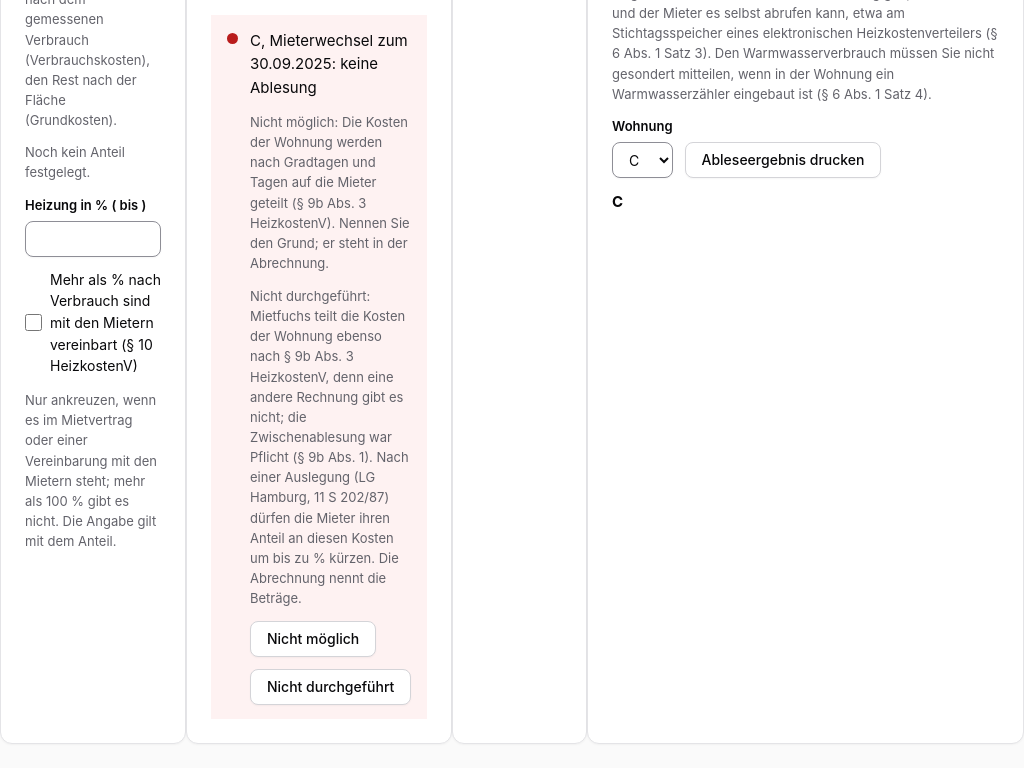
Test case: K5: Nicht möglich ohne Eingabe ist kein offenes Formular; Abbrechen schließt; ein Fehler steht einmal
(page scrolled)
Click the button "Nicht möglich" at (313, 639), box [250,621,376,657]
(page scrolled)
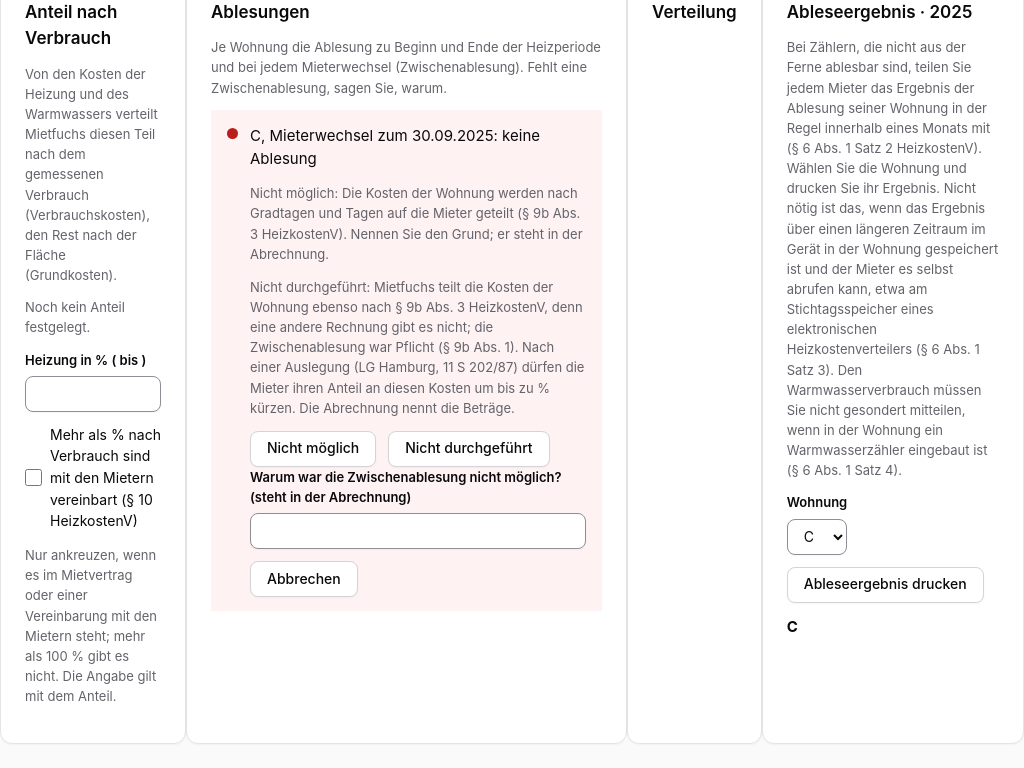
Click the button "Abbrechen" at (304, 579), box [250,561,358,597]
(page scrolled)
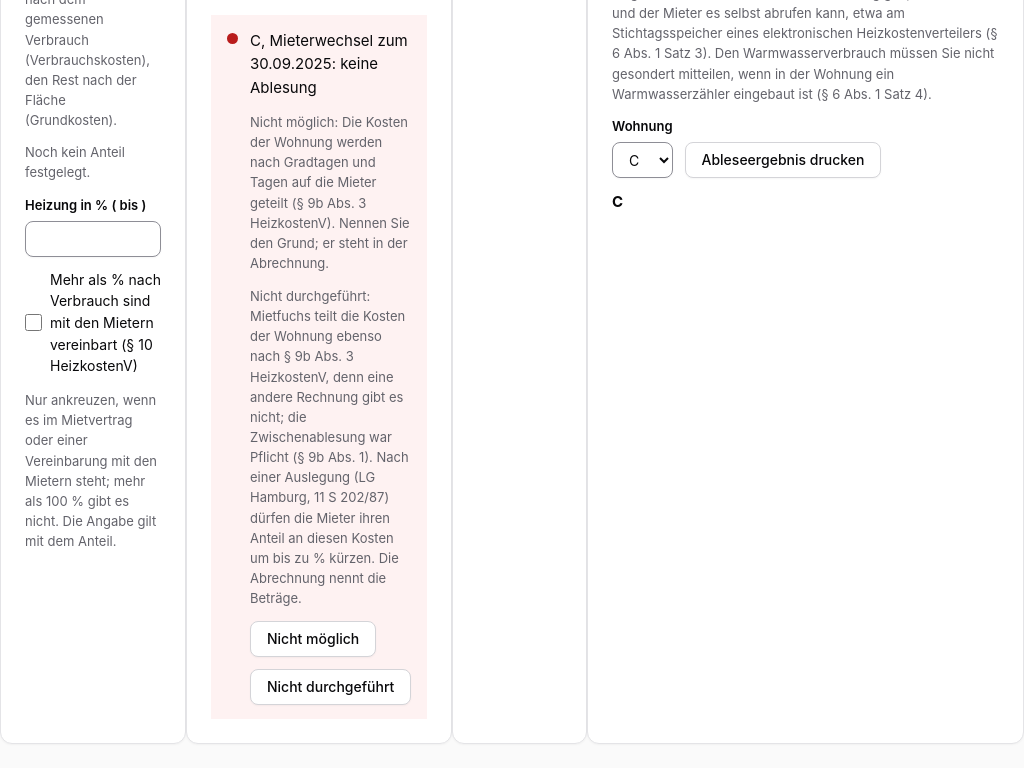
expect the label labelled "Warum war die Zwischenablesung nicht möglich" is gone: met
Click the button "Nicht möglich" at (313, 639), box [250,621,376,657]
(page scrolled)
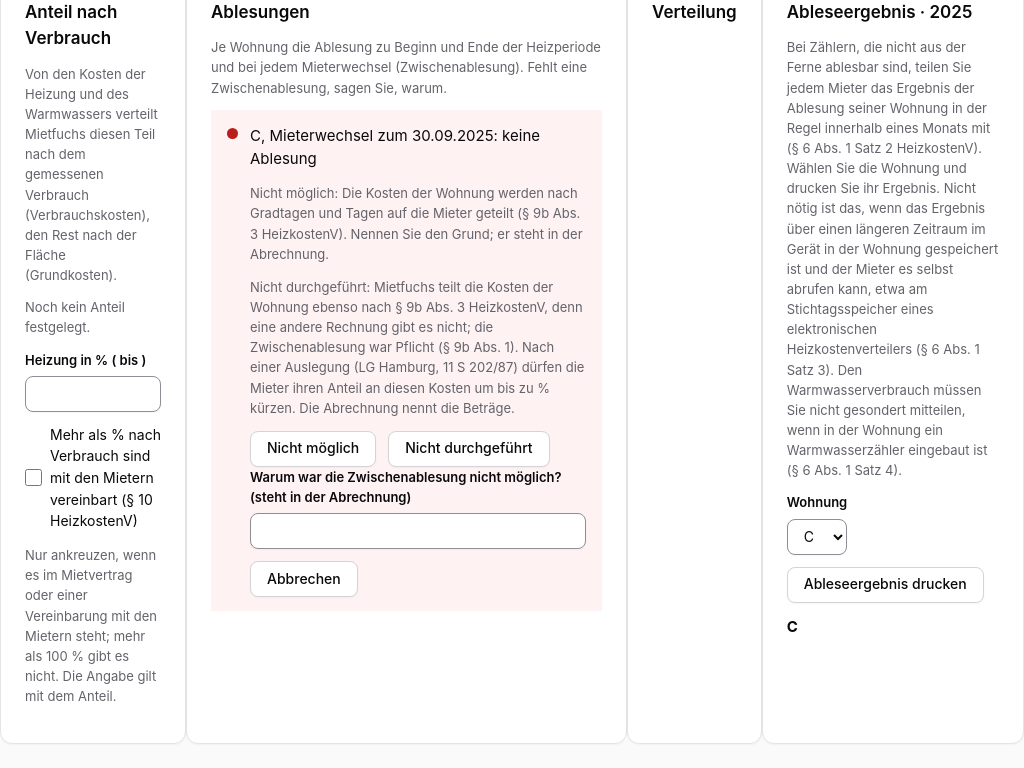
Type "x" into the field labelled "Warum war die Zwischenablesung nicht möglich" at (418, 531), box [250,513,586,549]
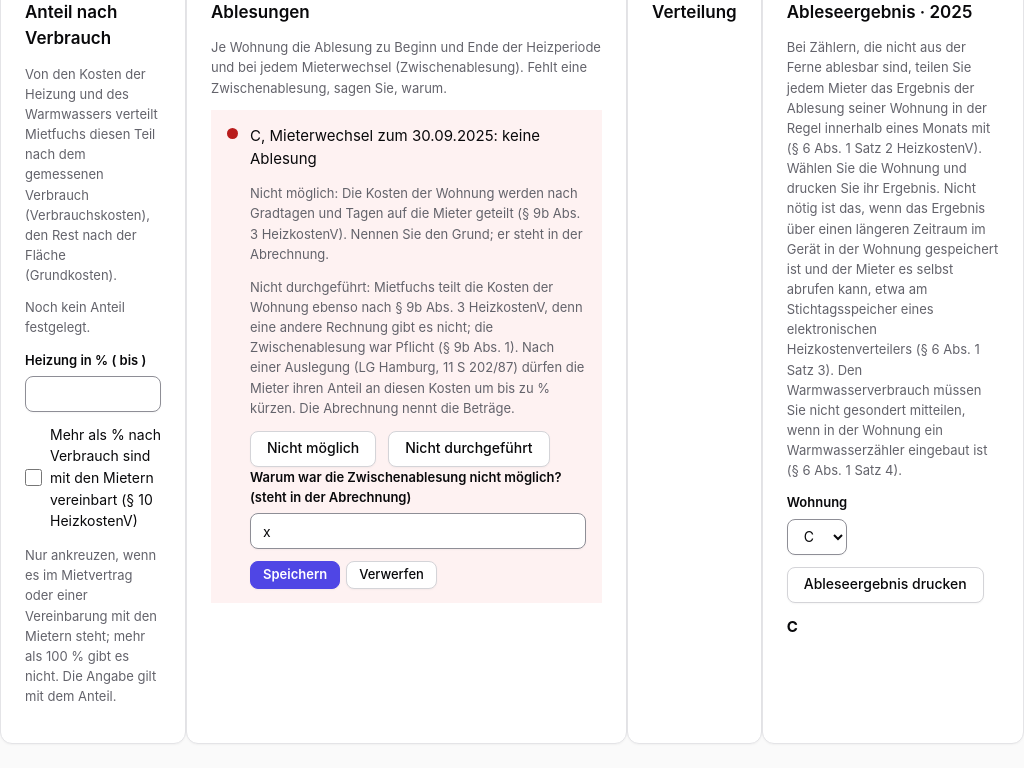
Click the button named "Speichern (Grund)" at (295, 575), box [250,561,340,589]
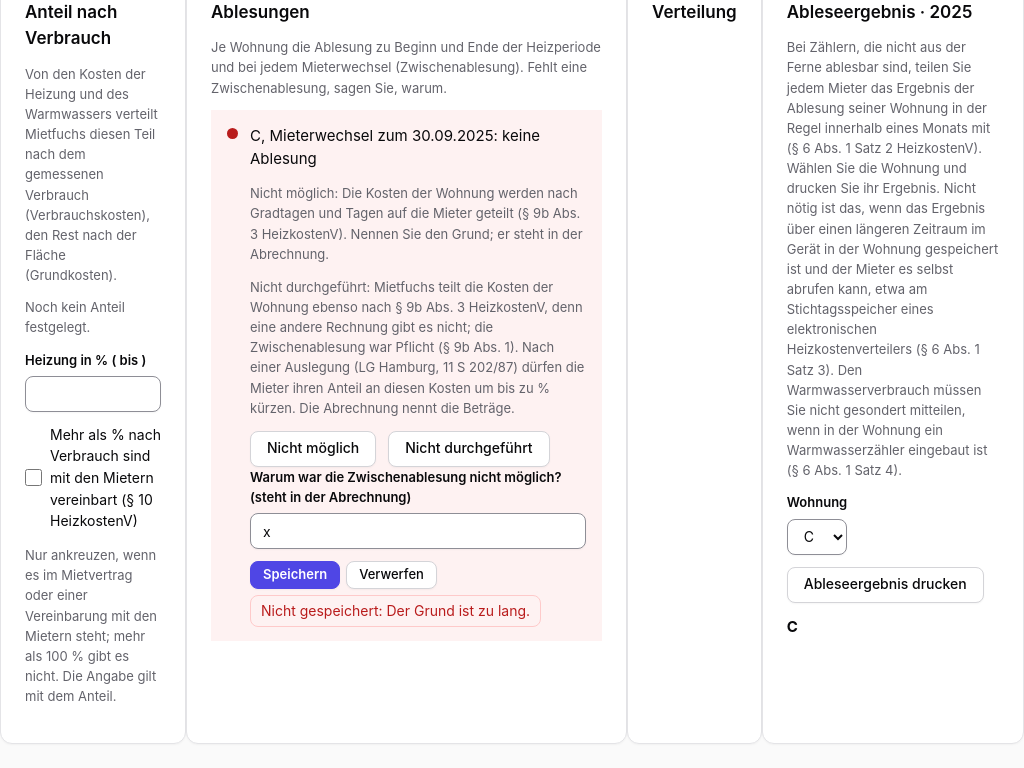
expect the text "Nicht gespeichert: Der Grund ist zu lang." is shown once: met, box [250,595,541,627]
